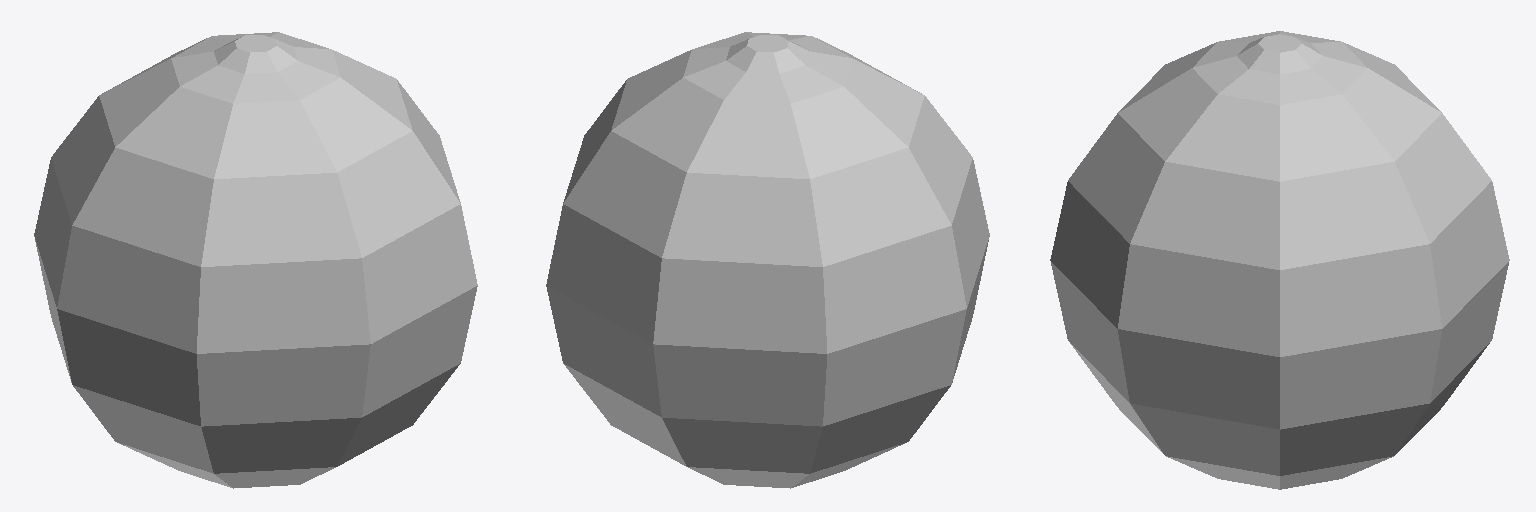
Rendered from Orange.obj.
The picture shows the model from 3 angles: view 1: azimuth 30°, elevation 25°; view 2: azimuth 150°, elevation 25°; view 3: azimuth 270°, elevation 25°; orthographic projection.
Visible parts, largest first — view 1: pSphere5; view 2: pSphere5; view 3: pSphere5.
Boxes of the visible parts, x1,y1,x2,y2 form: pSphere5: [34, 32, 477, 488]; pSphere5: [546, 32, 989, 488]; pSphere5: [1050, 31, 1509, 489].
Bounding box in the file's own units: 2.54 × 2.6 × 2.54.